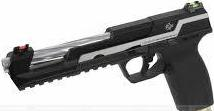gun: (1, 0, 214, 111)
